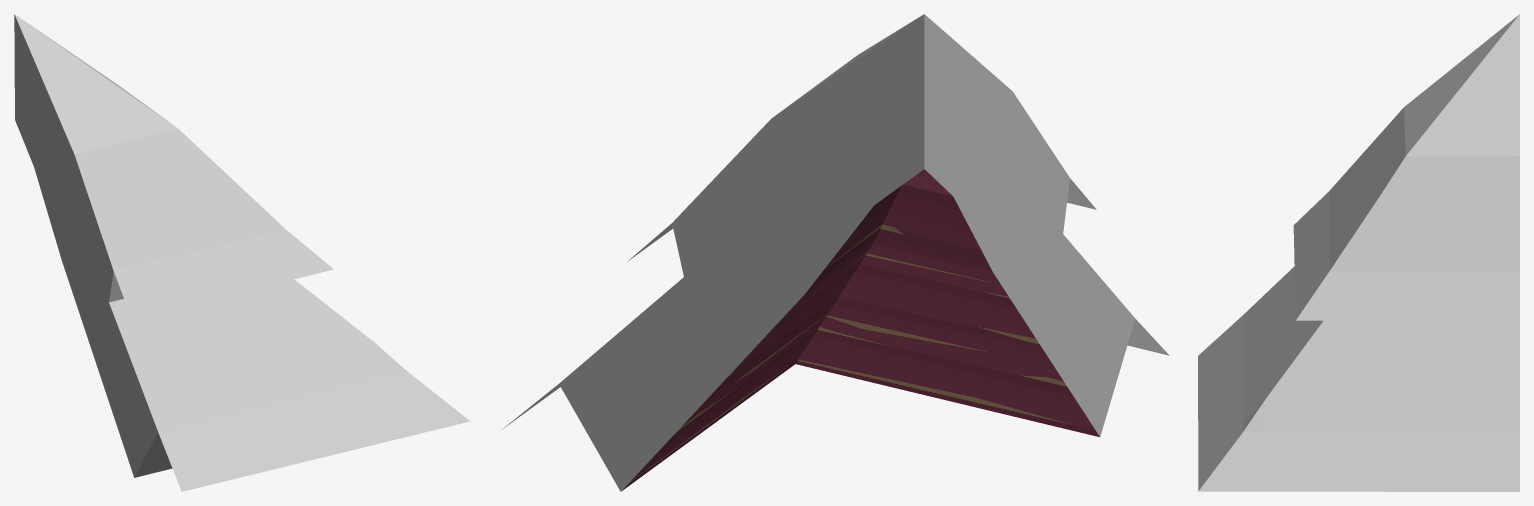
Rendered from SM_Bld_Roof_Thatch_S_Corner_Out_01.fbx.
The picture shows the model from 3 angles, left to right: view 1: azimuth 30°, elevation 25°; view 2: azimuth 150°, elevation 25°; view 3: azimuth 270°, elevation 25°; orthographic projection. The views are drawn at different scales.
Parts seen in each view (by area): view 1: SM_Bld_Roof_Thatch_S_Corner_Out_01; view 2: SM_Bld_Roof_Thatch_S_Corner_Out_01; view 3: SM_Bld_Roof_Thatch_S_Corner_Out_01.
Boxes of the visible parts, x1,y1,x2,y2 form: SM_Bld_Roof_Thatch_S_Corner_Out_01: (14, 14, 469, 491); SM_Bld_Roof_Thatch_S_Corner_Out_01: (502, 14, 1169, 491); SM_Bld_Roof_Thatch_S_Corner_Out_01: (1198, 14, 1519, 491).
Bounding box in the file's own units: 145 × 180 × 145.
